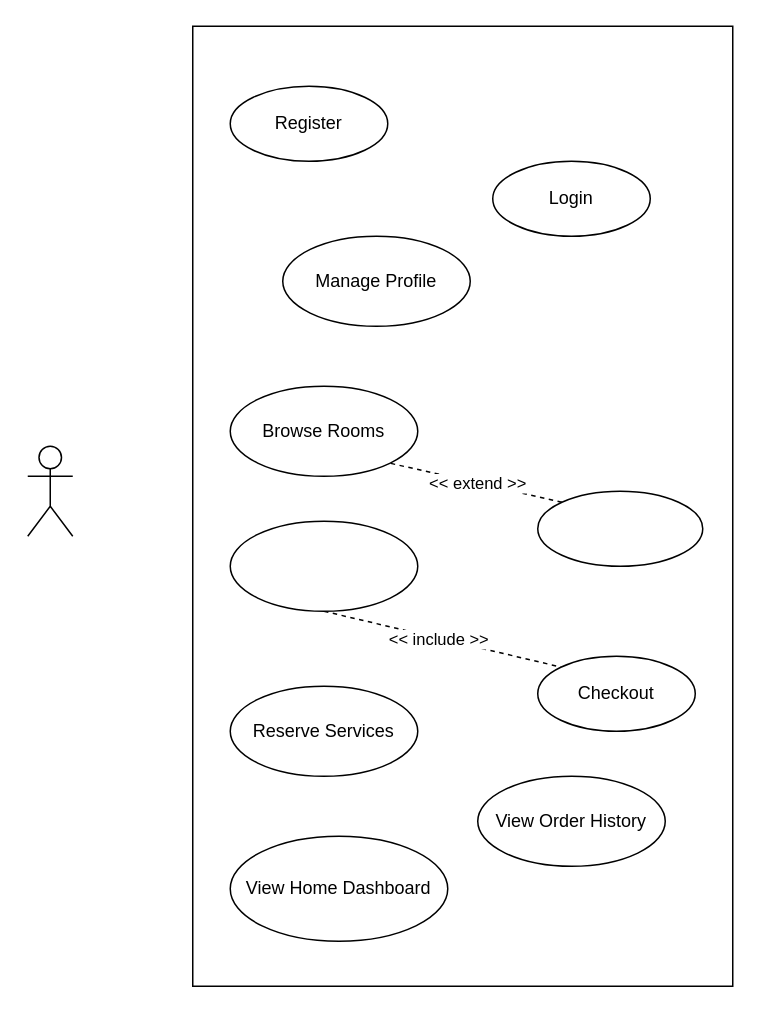
Some shapes in this 759 by 1013 pixel diagram are drawn without their labels. The shapes that lost their labels are listed below. From the top down, each one's centre as x and y in pixels, then its label:
At (x=49, y=490): "Guest".
At (x=619, y=528): "Filter Rooms".
At (x=323, y=565): "Book Rooms".
